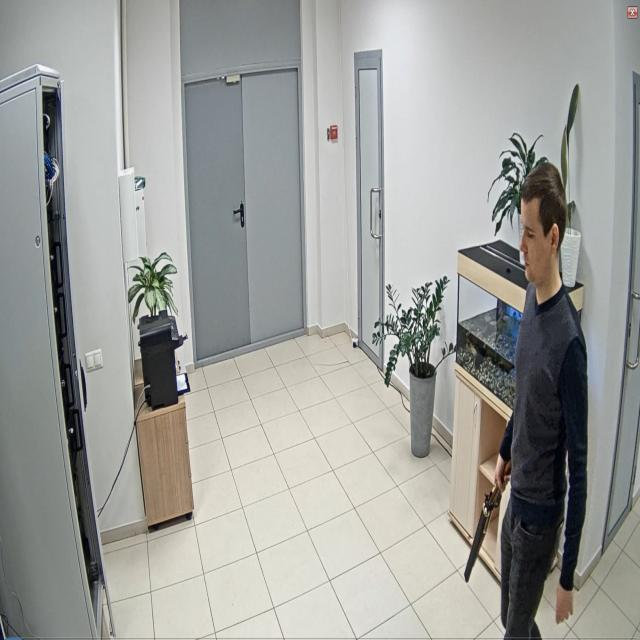-Gun: (465, 486, 501, 582)
